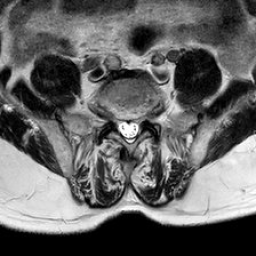CCS_normal: (125, 108, 132, 149)
LFS_stenosis: (140, 102, 148, 130)
LLS_normal: (132, 108, 140, 145)
RFS_stenosis: (108, 102, 116, 130)
RLS_normal: (116, 109, 125, 142)
